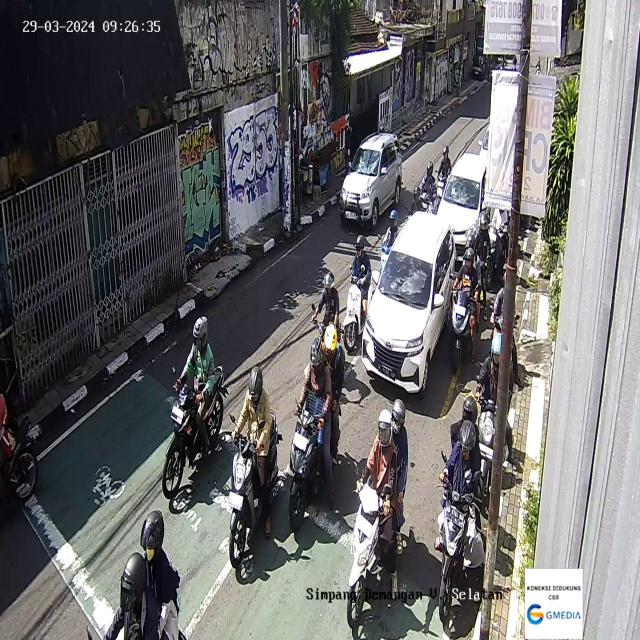car: (361, 210, 456, 394), (339, 131, 402, 229), (437, 153, 491, 262)
motorcycle: (346, 400, 409, 628), (83, 508, 187, 640), (287, 322, 346, 532), (434, 396, 486, 631), (162, 315, 228, 499), (227, 364, 283, 570), (476, 332, 514, 505), (0, 348, 41, 502), (448, 236, 482, 372), (491, 270, 524, 392), (342, 233, 372, 353), (311, 270, 344, 358), (472, 214, 491, 323), (486, 205, 508, 280), (378, 209, 399, 274), (435, 144, 451, 213), (418, 160, 435, 212), (405, 187, 424, 219)
